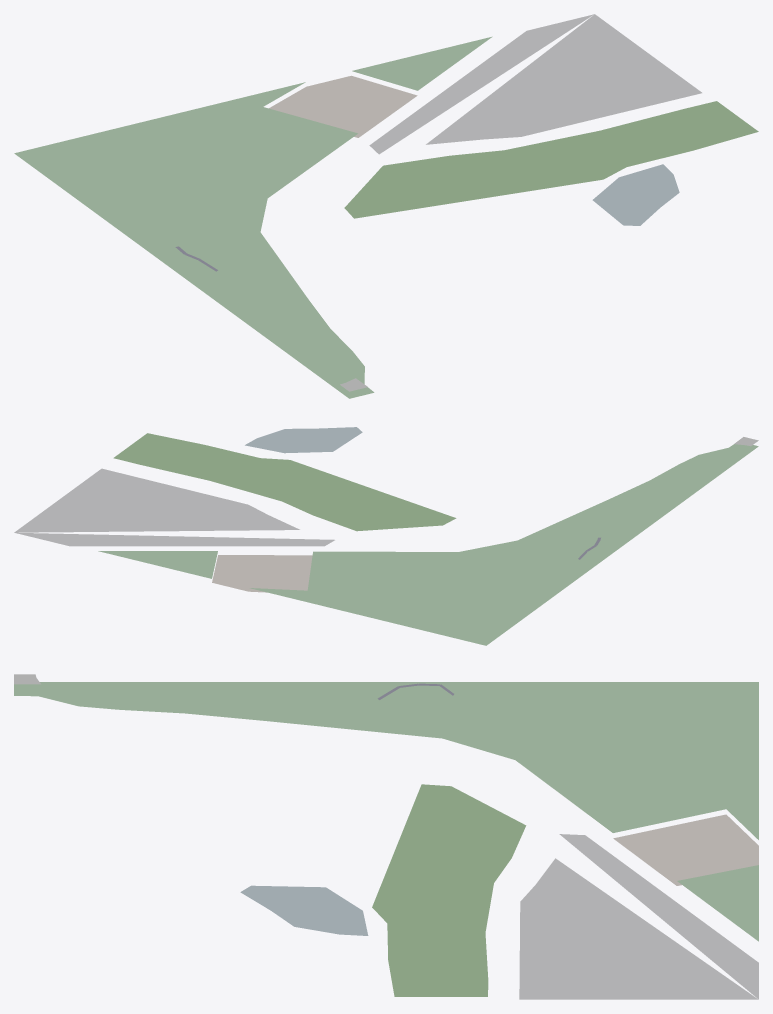
Rendered from 122_116_mid.glb.
The picture shows the model from 3 angles, top to bottom: view 1: azimuth 30°, elevation 25°; view 2: azimuth 150°, elevation 25°; view 3: azimuth 270°, elevation 25°; orthographic projection. The views are drawn at different scales.
Bounding box in the file's own units: 500 × 9.72 × 500.
